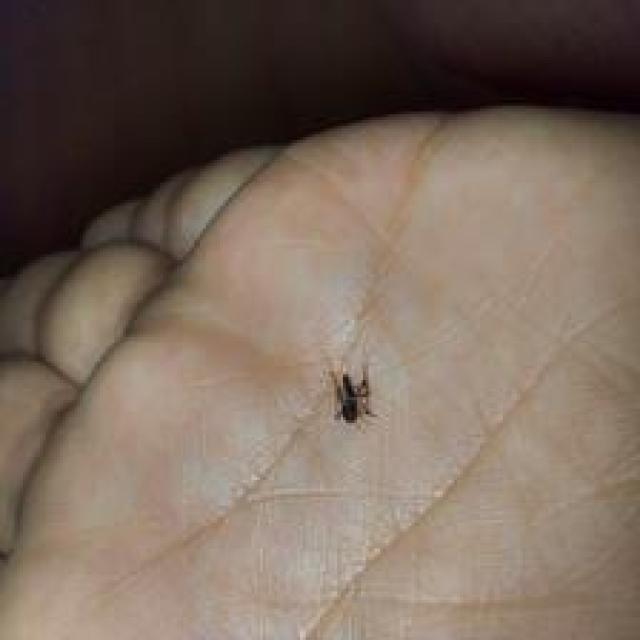Aedes albopictus: (327, 362, 379, 424)
